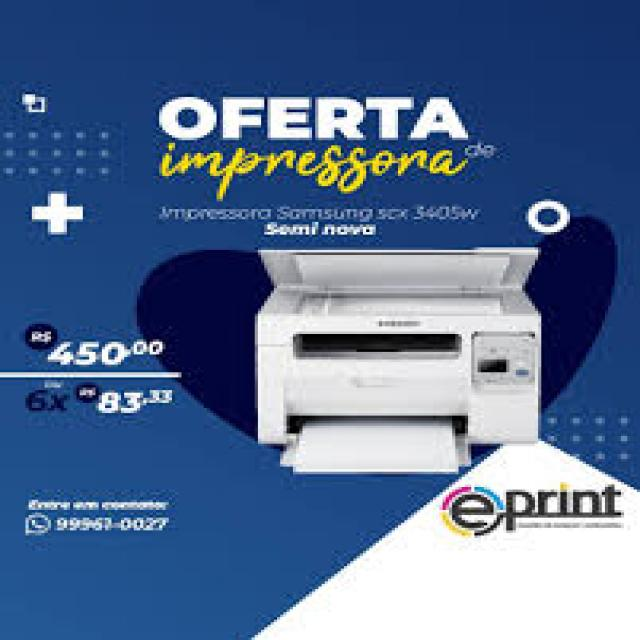printer: (249, 247, 540, 477)
